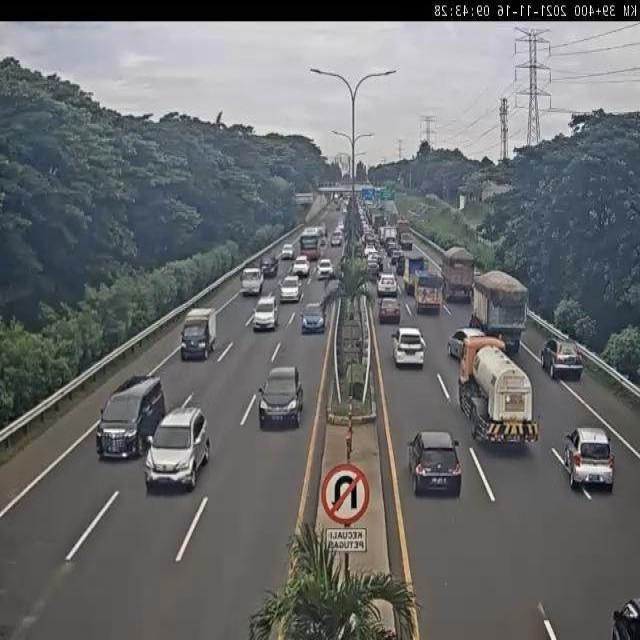Bus: (299, 226, 324, 260)
Car: (97, 374, 166, 459), (143, 406, 209, 491), (408, 431, 463, 497), (562, 426, 614, 491), (258, 363, 304, 431), (540, 338, 584, 381), (392, 326, 426, 369), (610, 596, 640, 640), (252, 294, 279, 332), (301, 302, 325, 335), (241, 267, 264, 297), (279, 274, 302, 302), (378, 298, 401, 324), (376, 274, 398, 299), (260, 255, 278, 278), (292, 256, 310, 278), (316, 258, 334, 279), (366, 256, 380, 276), (363, 245, 378, 262), (281, 243, 295, 260), (331, 232, 342, 247)
Truck: (459, 332, 537, 450), (473, 268, 527, 346), (181, 305, 218, 360), (442, 246, 475, 302), (414, 266, 442, 312)
